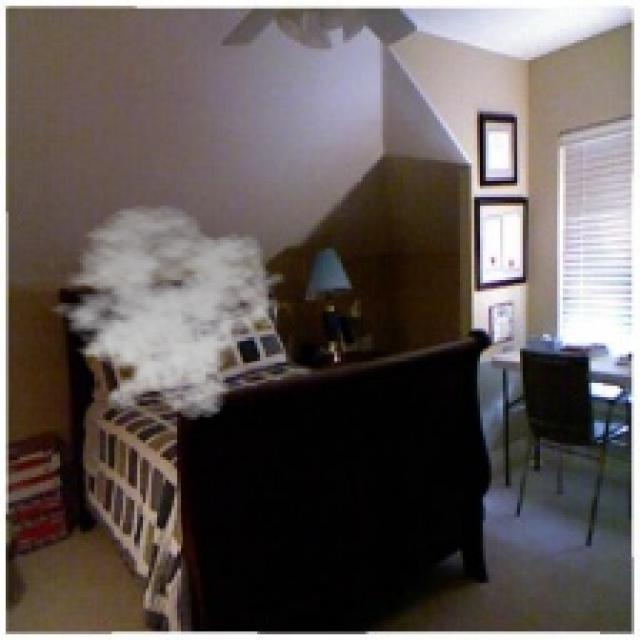smoke: (37, 203, 286, 420)
